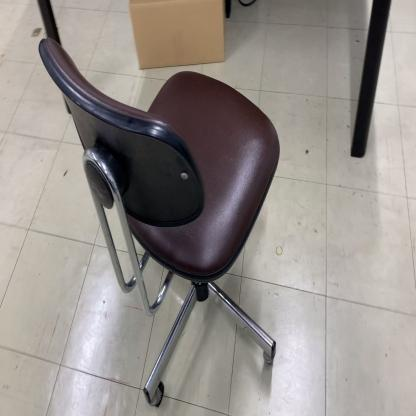chair: (37, 35, 280, 409)
